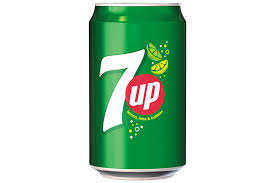can: (84, 1, 189, 183)
